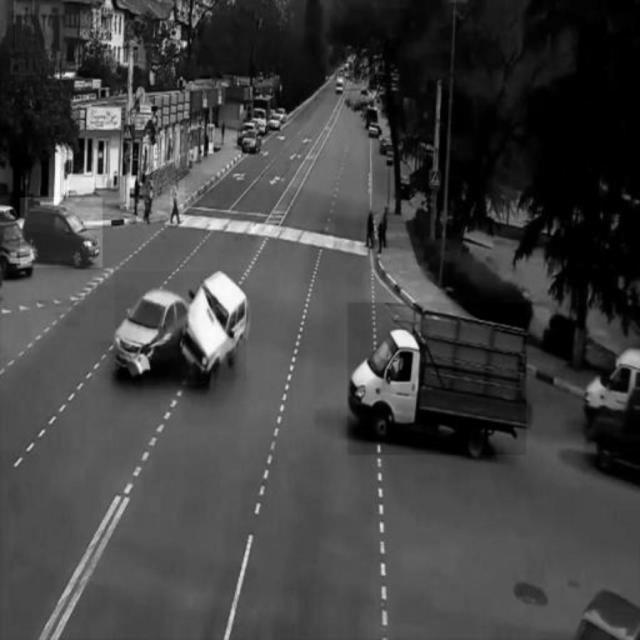accident: (115, 272, 246, 382)
person: (171, 180, 186, 222)
vehicle: (347, 302, 525, 456), (20, 198, 103, 268)
